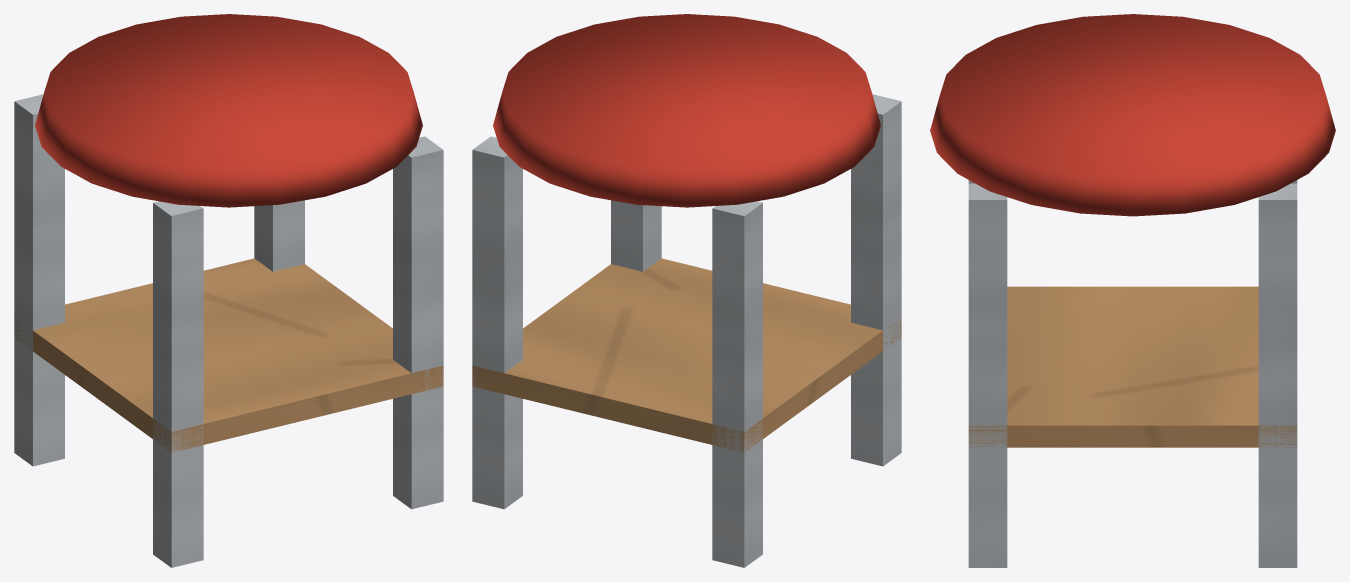
File: materials_v2_test.glb
The picture shows the model from 3 angles, left to right: view 1: azimuth 30°, elevation 25°; view 2: azimuth 150°, elevation 25°; view 3: azimuth 270°, elevation 25°; orthographic projection. The views are drawn at different scales.
Visible parts, largest first — view 1: materials_v2_test_seat, materials_v2_test_frame, materials_v2_test_shelf; view 2: materials_v2_test_seat, materials_v2_test_frame, materials_v2_test_shelf; view 3: materials_v2_test_seat, materials_v2_test_shelf, materials_v2_test_frame.
Part boxes in pixels (x1,y1,x2,y2): materials_v2_test_seat: [35, 14, 422, 207]; materials_v2_test_frame: [14, 94, 443, 567]; materials_v2_test_shelf: [14, 258, 443, 452]; materials_v2_test_seat: [493, 14, 880, 207]; materials_v2_test_frame: [472, 94, 901, 567]; materials_v2_test_shelf: [472, 258, 901, 452]; materials_v2_test_seat: [930, 14, 1335, 216]; materials_v2_test_shelf: [968, 286, 1297, 447]; materials_v2_test_frame: [968, 180, 1297, 567].
Size of the model in its own units: 0.42 by 0.46 by 0.42.
3 materials, 3 textured.
